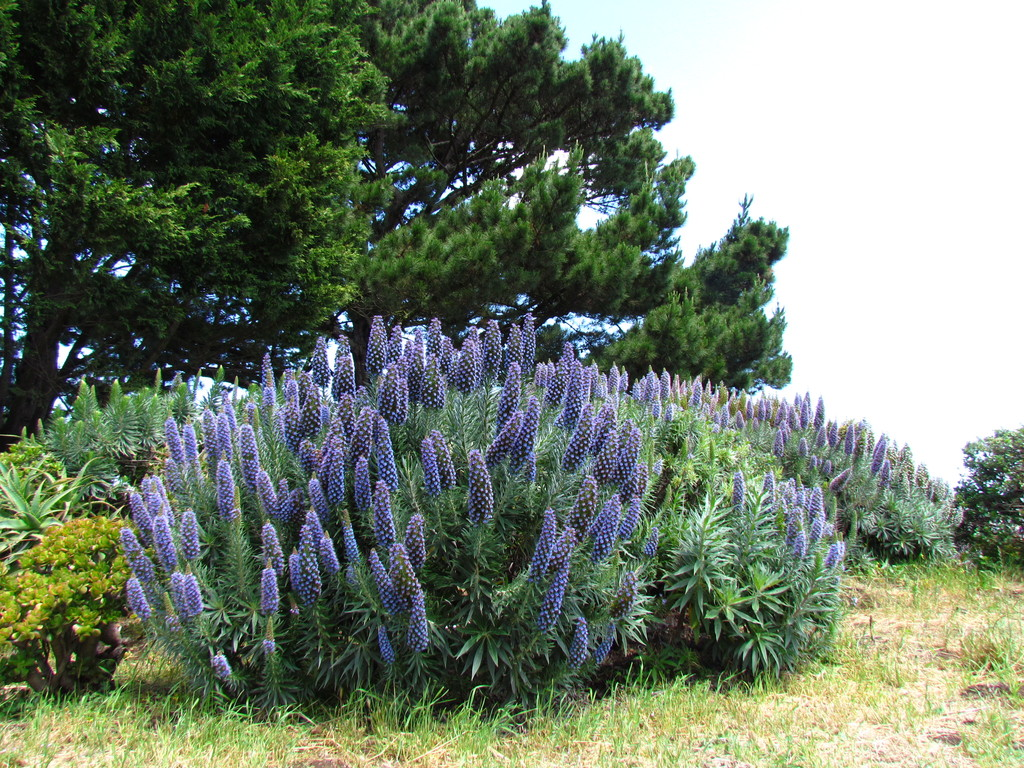Tree: (5, 0, 808, 438), (0, 378, 935, 697), (950, 425, 1023, 547)
